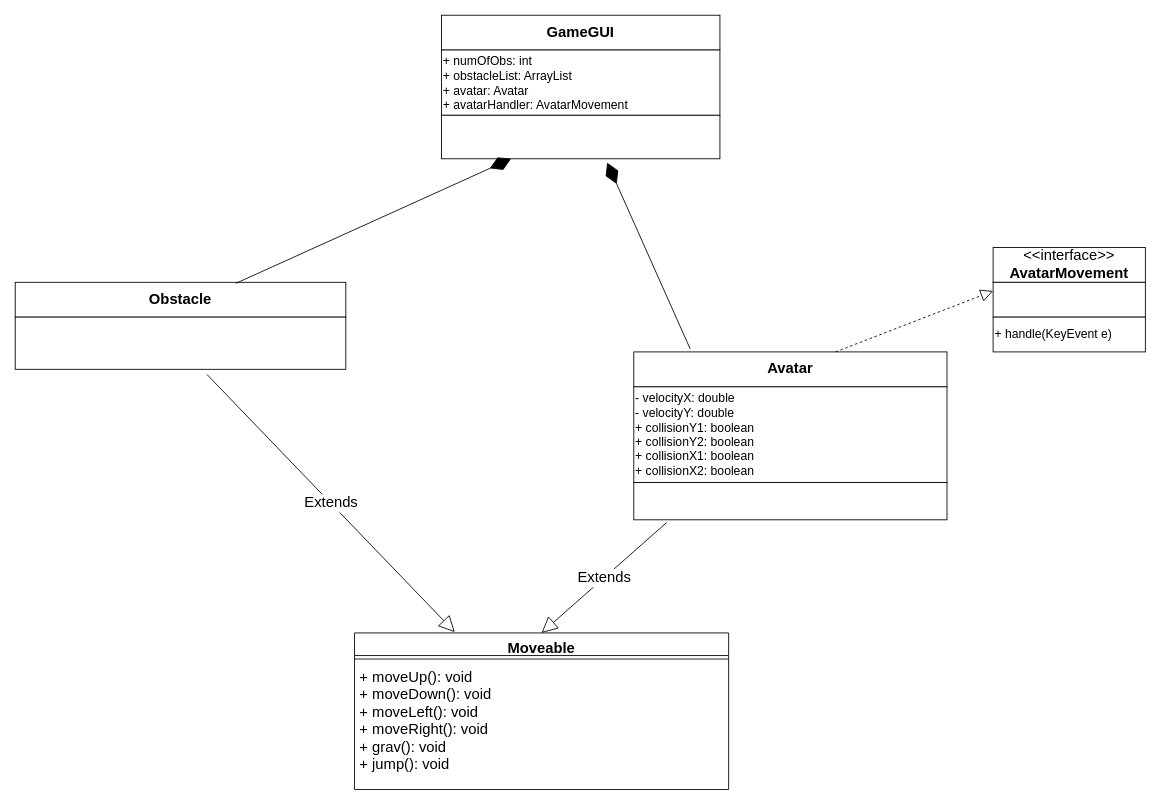
The diagram is 1161 pixels wide and 807 high, and some of its shapes have lost their labels. Each missing label, with the box of its shape:
+ collisionCheck(Obstacle o): void: (633, 482, 947, 520)
+ main(String[] args): void + start: void + createObjList(): void: (441, 114, 720, 159)
+ Obstacle(double x, double y, double width, double height): (14, 316, 346, 369)
- avatar: Avatar: (992, 281, 1145, 317)
